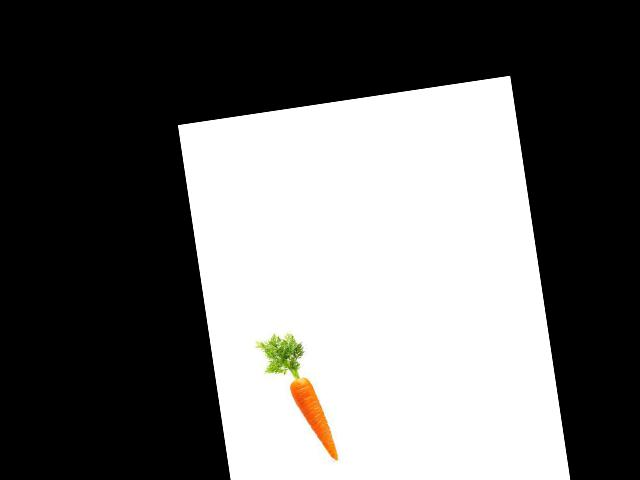carrot: (286, 371, 348, 471)
